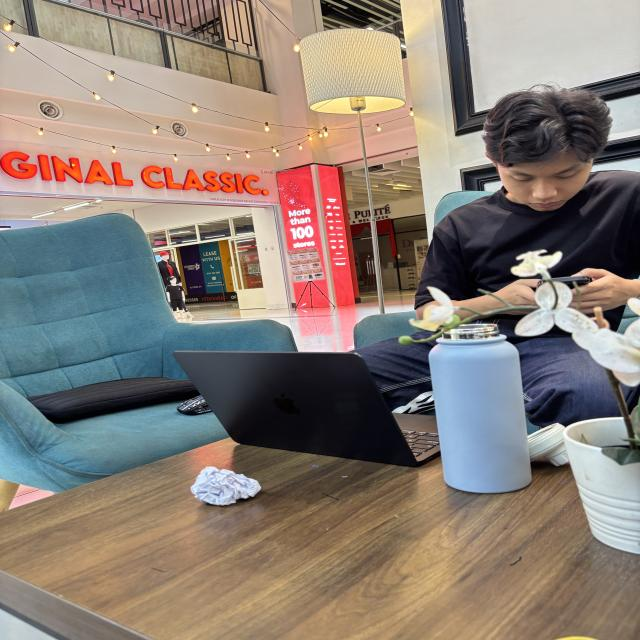crumpled_paper: (191, 462, 264, 508)
